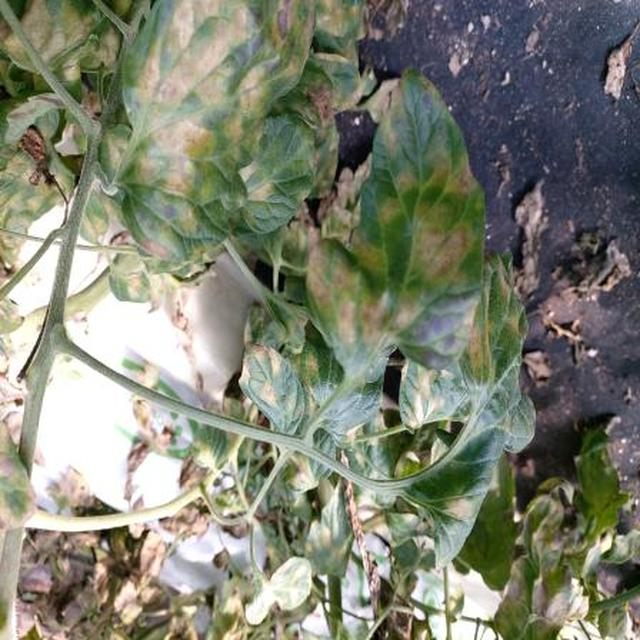Leaf Mold: (256, 195, 565, 438)
